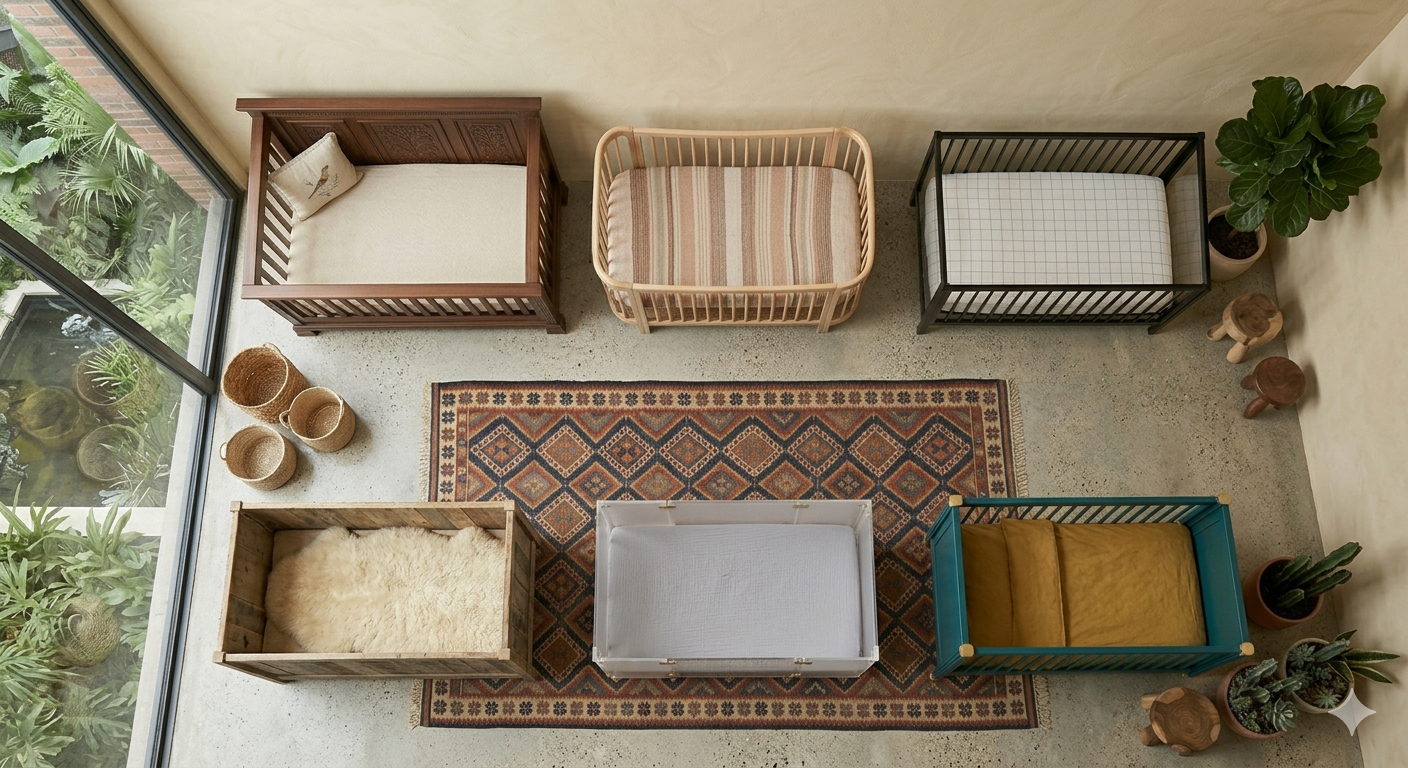crib: (237, 98, 566, 334), (213, 501, 543, 682), (911, 132, 1209, 332), (928, 496, 1253, 675), (592, 126, 874, 332), (592, 499, 879, 678)
